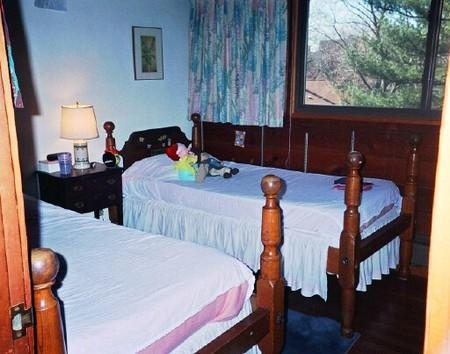Cama: (111, 124, 415, 267), (28, 195, 287, 343)
Ventana: (293, 3, 440, 122)
